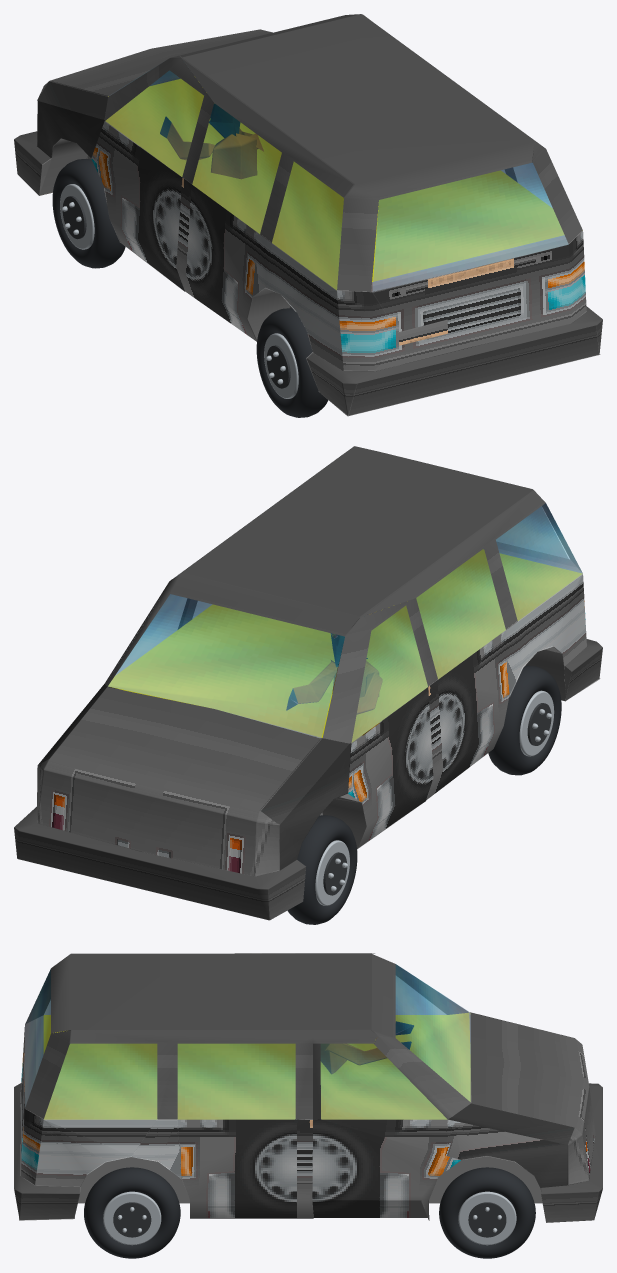
File: car-minivana.glb
3 renders of one model, top to bottom at view 1: azimuth 30°, elevation 25°; view 2: azimuth 150°, elevation 25°; view 3: azimuth 270°, elevation 25°, orthographic. The views are drawn at different scales.
Parts seen in each view (by area): view 1: minivanAShape.001, windShape, minivanAShape, Rounded tire.025, Rounded tire.026, Alloy rim.026, Alloy rim.025, Rim recess.050, Rim recess.052; view 2: minivanAShape.001, windShape, minivanAShape, Rounded tire.026, Rounded tire.025, Alloy rim.026, Alloy rim.025, Rim recess.050, Rim recess.052; view 3: minivanAShape.001, windShape, minivanAShape, Rounded tire.027, Rounded tire.024, Alloy rim.027, Alloy rim.024, Rim recess.055, Rim recess.049.
Part boxes in pixels (<box>): minivanAShape.001: <box>14,14,602,416</box>; windShape: <box>105,70,568,291</box>; minivanAShape: <box>106,79,564,289</box>; Rounded tire.025: <box>52,158,125,268</box>; Rounded tire.026: <box>256,308,328,417</box>; Alloy rim.026: <box>264,333,298,398</box>; Alloy rim.025: <box>60,184,94,249</box>; Rim recess.050: <box>62,196,86,239</box>; Rim recess.052: <box>266,345,290,388</box>; minivanAShape.001: <box>14,446,602,920</box>; windShape: <box>108,503,582,742</box>; minivanAShape: <box>108,549,581,741</box>; Rounded tire.026: <box>488,665,561,775</box>; Rounded tire.025: <box>287,815,357,924</box>; Alloy rim.026: <box>519,690,554,756</box>; Alloy rim.025: <box>315,840,349,905</box>; Rim recess.050: <box>323,852,347,895</box>; Rim recess.052: <box>527,703,551,745</box>; minivanAShape.001: <box>14,953,602,1222</box>; windShape: <box>25,964,470,1119</box>; minivanAShape: <box>44,1013,470,1119</box>; Rounded tire.027: <box>84,1167,180,1258</box>; Rounded tire.024: <box>439,1167,535,1258</box>; Alloy rim.027: <box>103,1191,161,1245</box>; Alloy rim.024: <box>458,1191,516,1245</box>; Rim recess.055: <box>113,1202,151,1237</box>; Rim recess.049: <box>468,1202,506,1237</box>.
Size of the model in its own units: 2.41 by 2.12 by 5.2.
6 materials, 3 textured.
